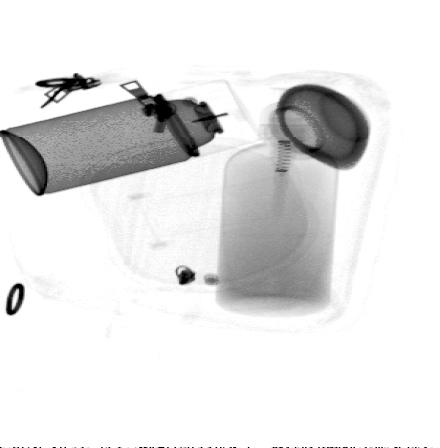Sprayer: (0, 78, 265, 199)
